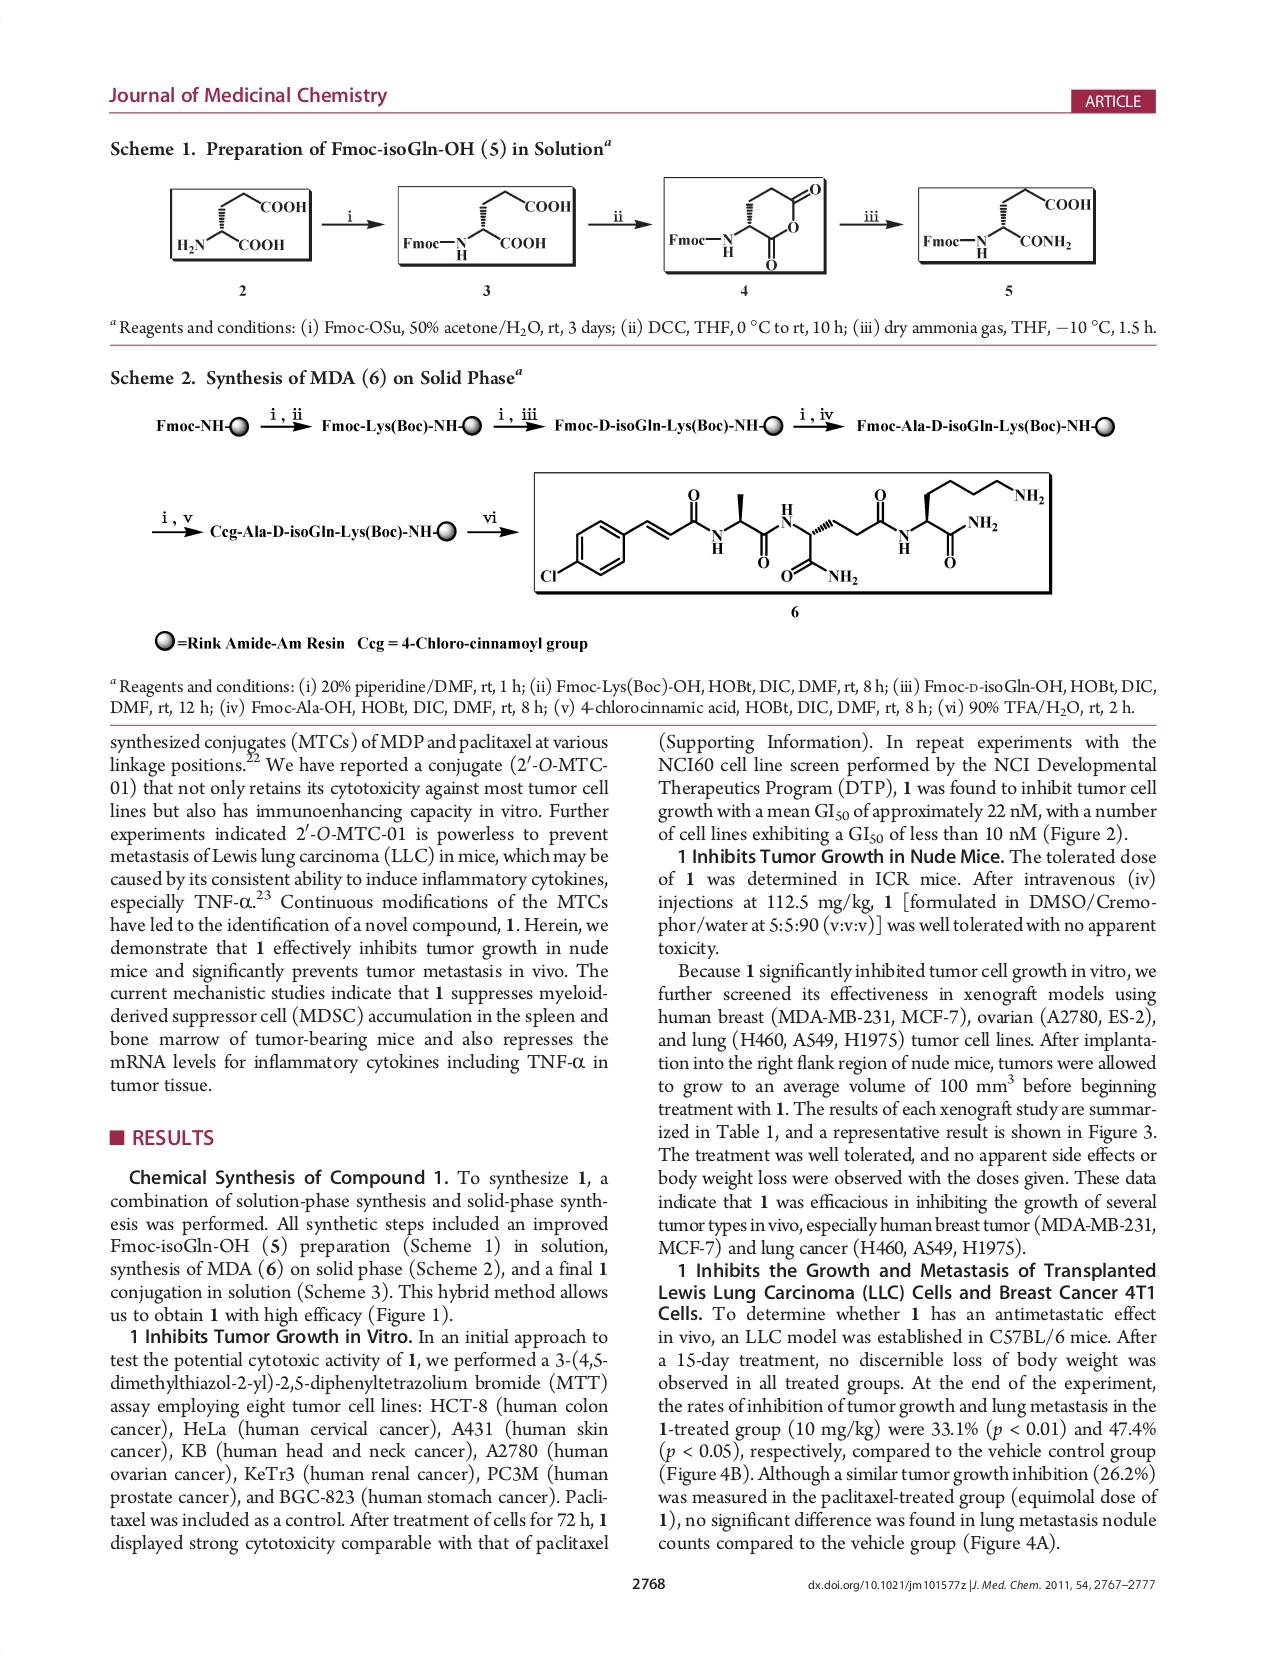exist_molecular: (537, 477, 1047, 586), (668, 182, 821, 270), (402, 188, 573, 262), (922, 189, 1090, 258), (173, 192, 305, 254)
